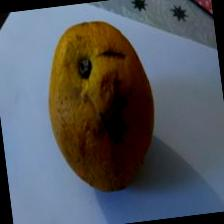Orange Rotten: (31, 3, 172, 204)
